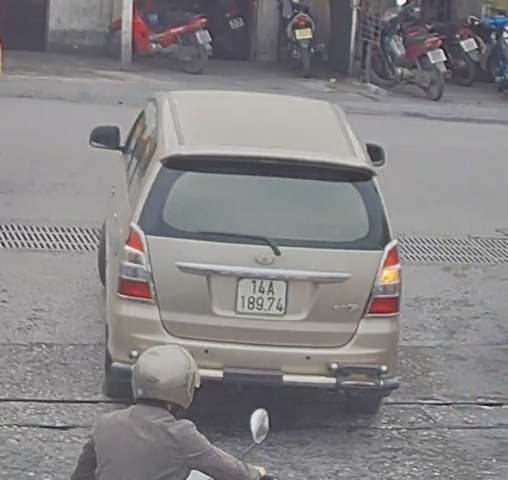vehicle plate: (239, 271, 288, 316)
